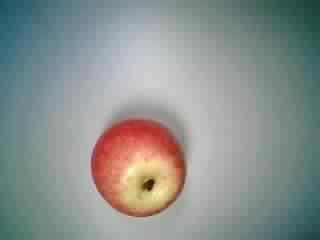apple: (86, 114, 193, 218)
